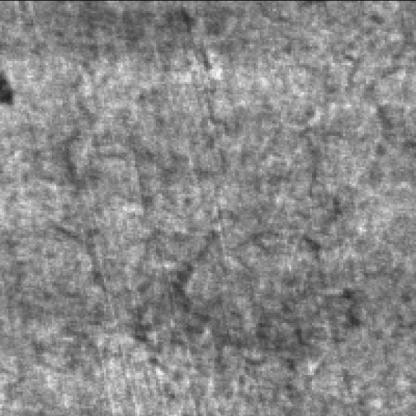crazing: (125, 229, 364, 393)
